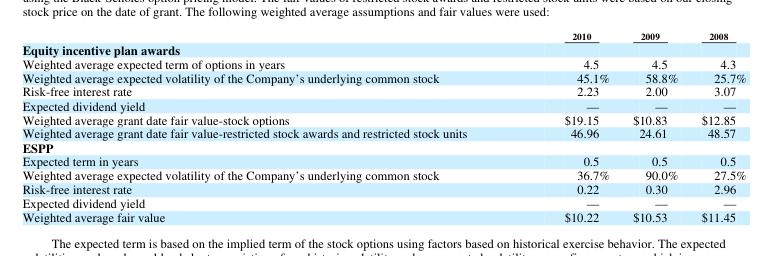table: (21, 29, 745, 224)
table column: (21, 29, 515, 224), (515, 29, 620, 224), (620, 29, 689, 224), (689, 29, 745, 224)
table column header: (21, 29, 745, 41)
table projected row header: (21, 41, 745, 56), (21, 139, 745, 154)
table row: (21, 41, 745, 56), (21, 139, 745, 154), (21, 209, 745, 224), (21, 69, 745, 83), (21, 83, 745, 97), (21, 97, 745, 111), (21, 111, 745, 125), (21, 125, 745, 139), (21, 167, 745, 181), (21, 181, 745, 195), (21, 195, 745, 209), (21, 56, 745, 69), (21, 154, 745, 167), (21, 29, 745, 41)
